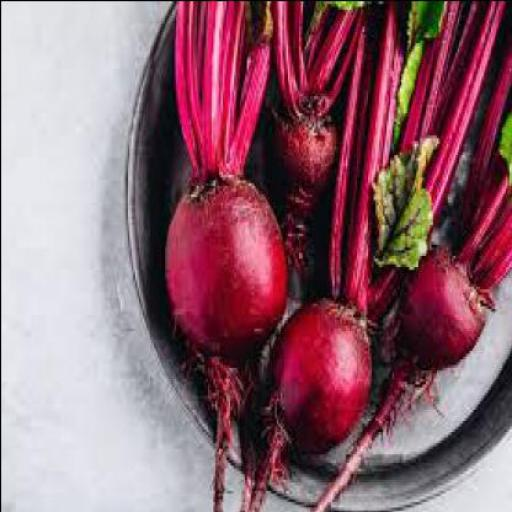biodegradable: (325, 2, 503, 316), (161, 170, 281, 352), (169, 1, 272, 185), (311, 352, 423, 510), (265, 291, 368, 456), (452, 57, 510, 288), (258, 98, 334, 271), (393, 241, 486, 372), (267, 1, 359, 112), (367, 128, 433, 266), (389, 0, 443, 140), (195, 352, 241, 510), (244, 405, 283, 509), (493, 103, 510, 187), (303, 1, 362, 20)
metal: (123, 0, 510, 510)
